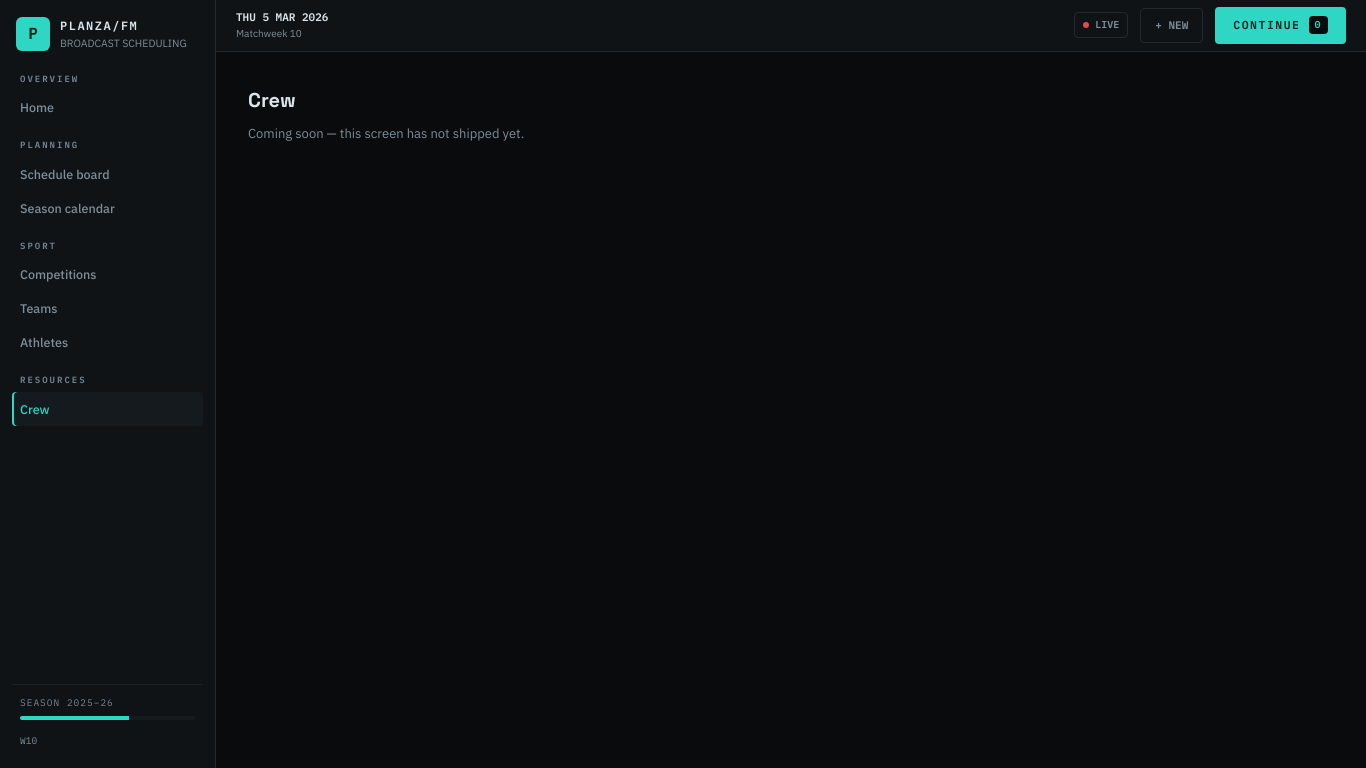
Test: routing inside the shell (never a 404, never a crash — Story FM1-2 AC) › nav item home reaches the real FmHomeScreen (FM1-4 override, not a placeholder)
Click the link with test id "fm-nav-home" at [37, 107], box [20, 99, 54, 115]
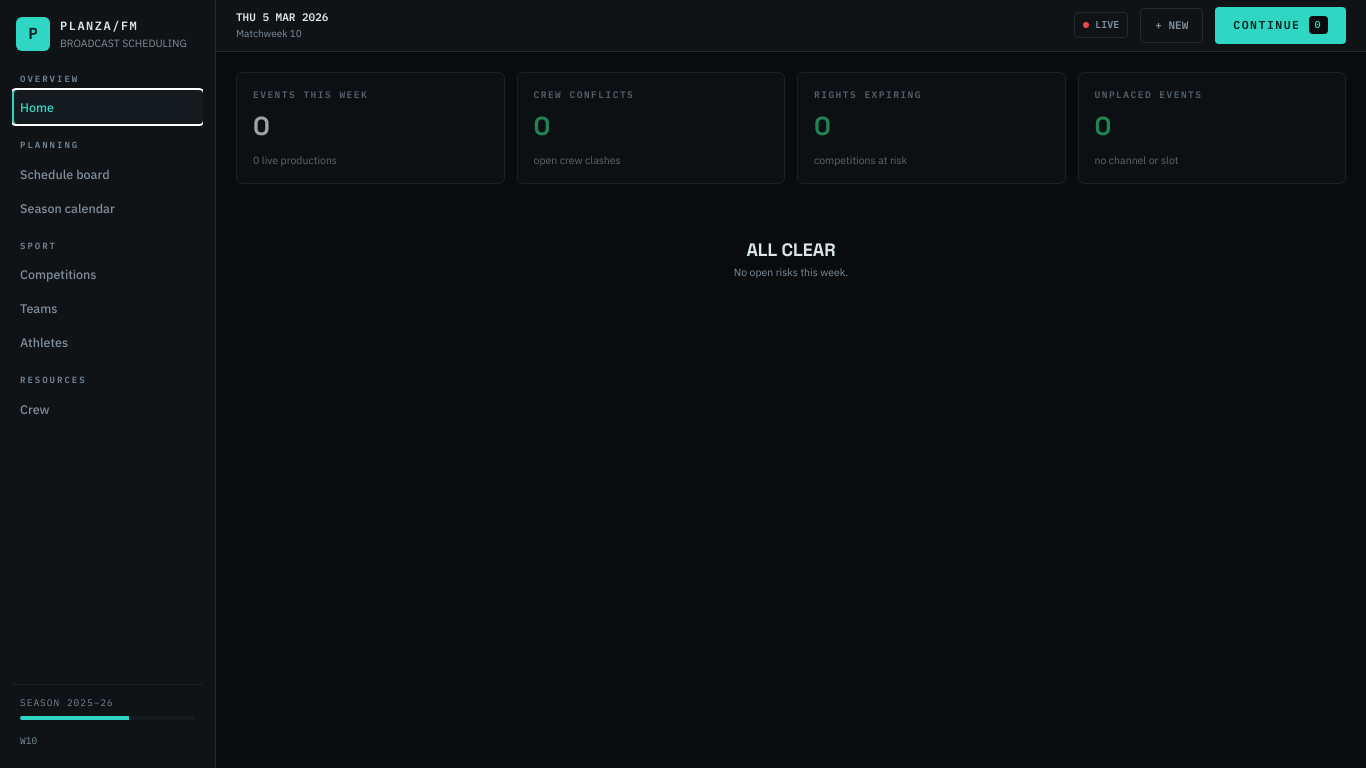
Expected: the element with test id "fm-home-screen" is shown, [236, 72, 1346, 279]
